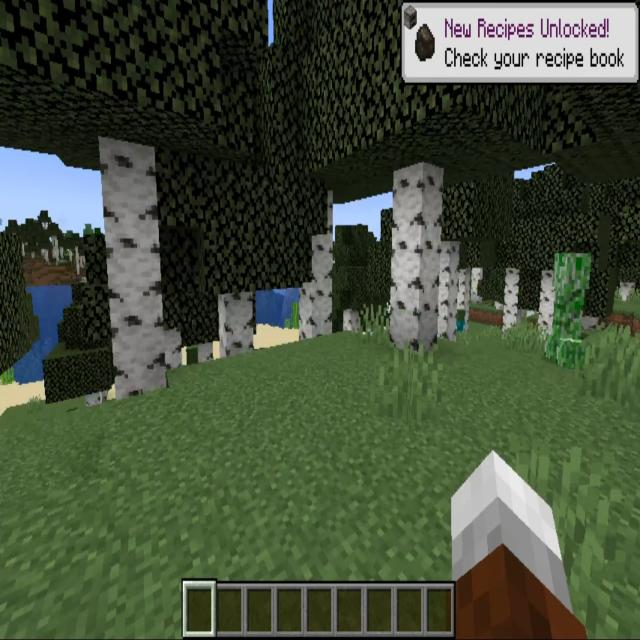Creeper: (543, 239, 596, 366)
Zombie: (451, 308, 471, 340)
